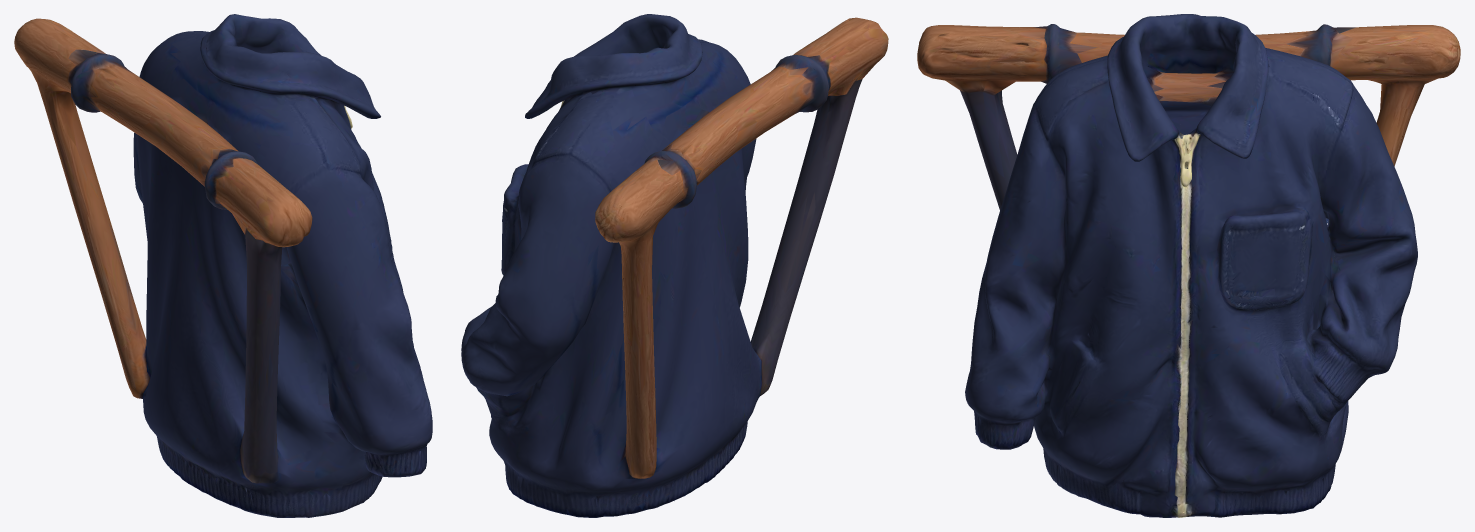
File: keepsake-jacket.glb
The picture shows the model from 3 angles, left to right: view 1: azimuth 30°, elevation 25°; view 2: azimuth 150°, elevation 25°; view 3: azimuth 270°, elevation 25°; orthographic projection. The views are drawn at different scales.
Visible parts, largest first — view 1: tripo_node_f52bd5ab-ca19-4c22-aefe-32a9e2057d30; view 2: tripo_node_f52bd5ab-ca19-4c22-aefe-32a9e2057d30; view 3: tripo_node_f52bd5ab-ca19-4c22-aefe-32a9e2057d30.
Part boxes in pixels (left/top/right/bottom): tripo_node_f52bd5ab-ca19-4c22-aefe-32a9e2057d30: left=14, top=14, right=432, bottom=517; tripo_node_f52bd5ab-ca19-4c22-aefe-32a9e2057d30: left=461, top=14, right=888, bottom=517; tripo_node_f52bd5ab-ca19-4c22-aefe-32a9e2057d30: left=917, top=14, right=1460, bottom=517.
Size of the model in its own units: 0.5079 by 0.8884 by 0.9764.
1 material, 1 textured.
